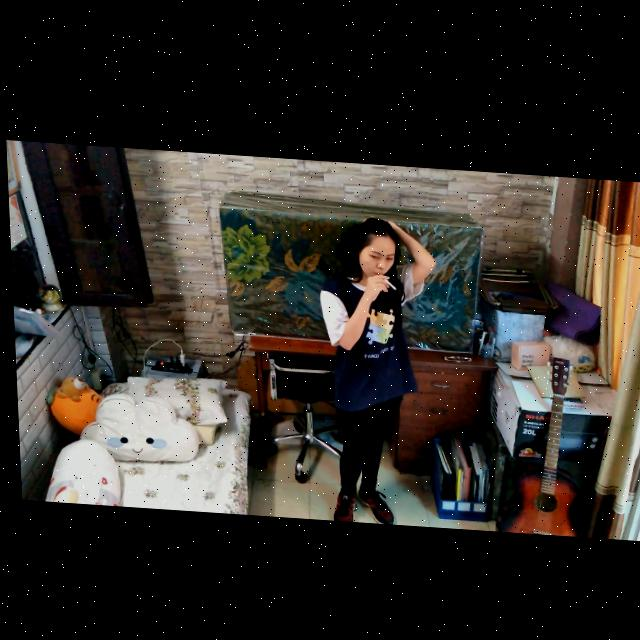cigarette: (380, 273, 394, 285)
